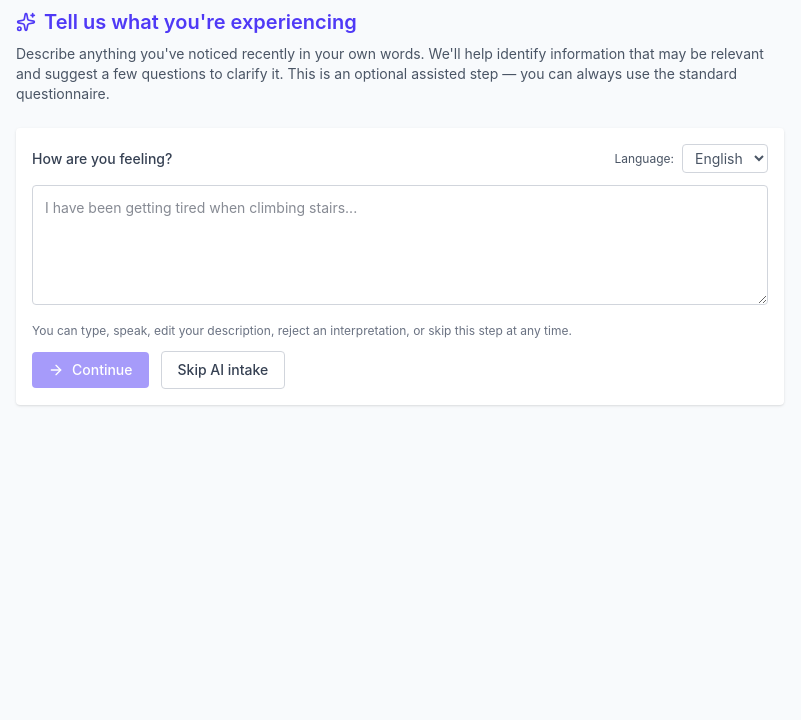
Test: IntakePage › lets the user reject an interpreted observation
The width and height of the screenshot is (801, 720).
Type "tired" into the text box at (400, 245), box top-left (32, 185), bottom-right (768, 305)
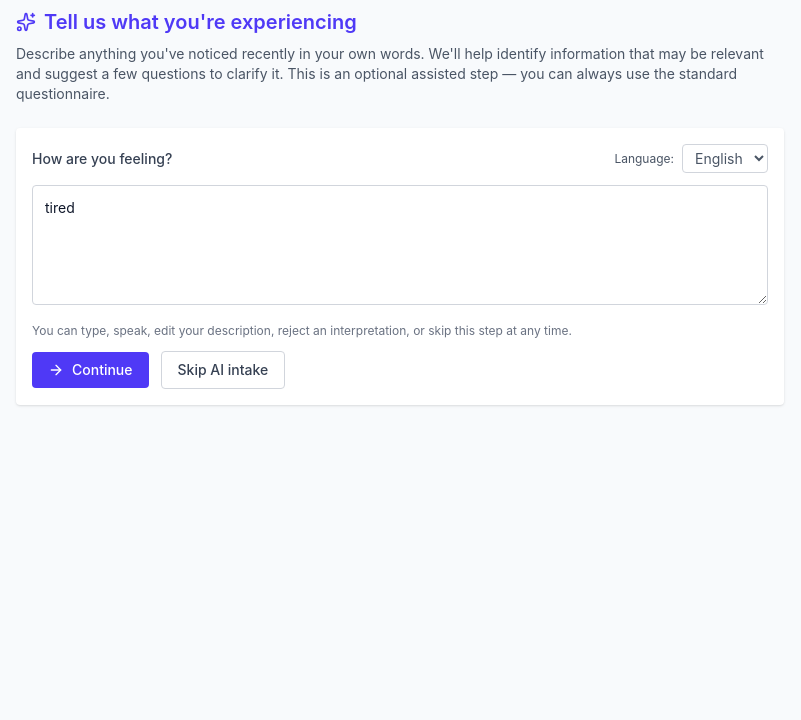
Click the button "Continue" at (90, 370), box top-left (32, 352), bottom-right (148, 388)
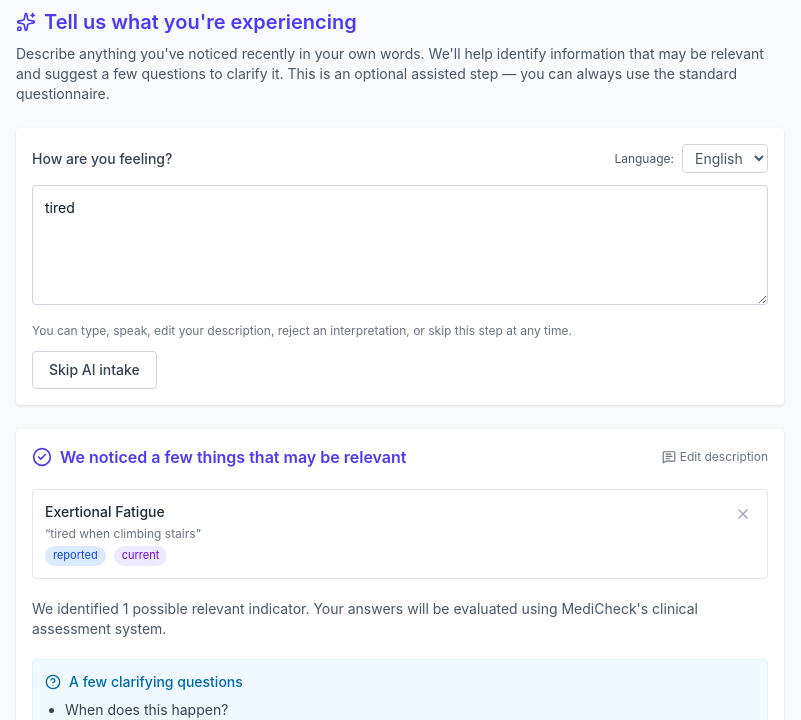
Check: the text "Exertional Fatigue" is shown, box top-left (45, 503), bottom-right (165, 520)
Click the button named "Reject this interpretation" at (743, 514), box top-left (731, 502), bottom-right (755, 526)
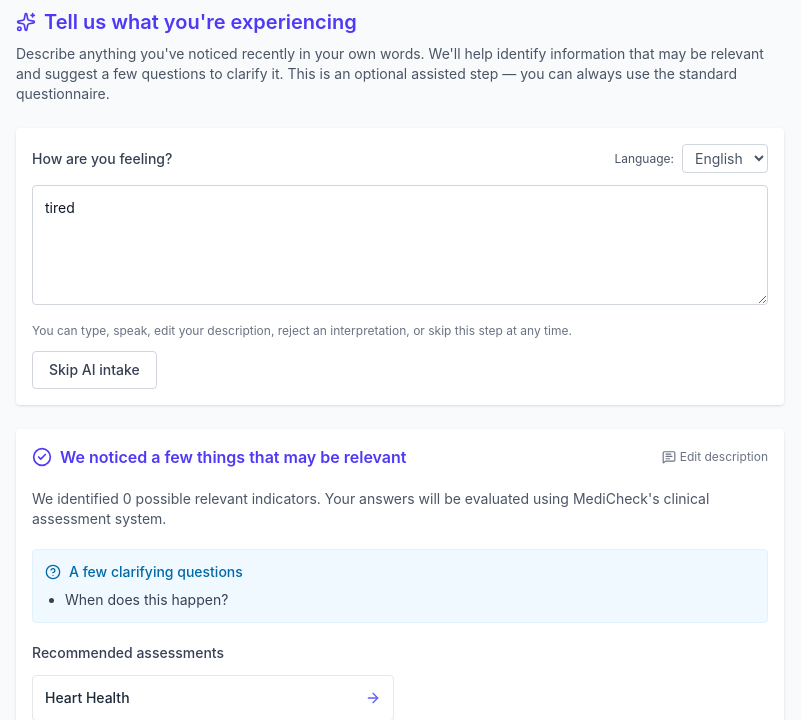
Check: the text "Exertional Fatigue" is gone
